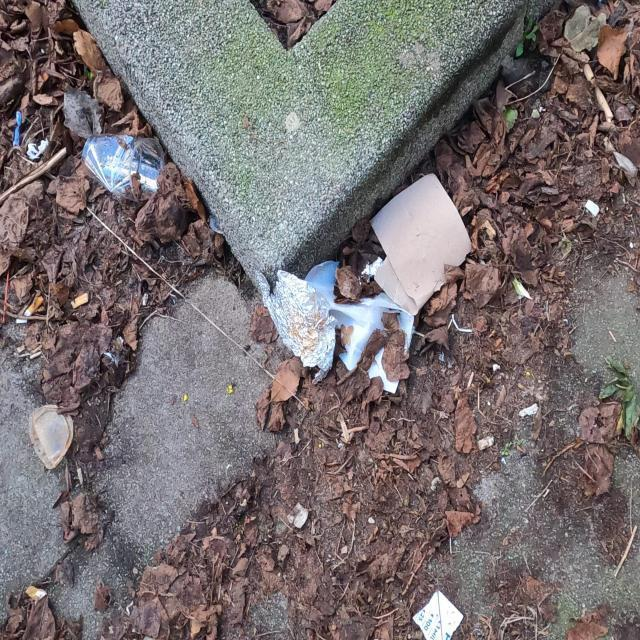Cup: (80, 130, 166, 204)
Paper: (304, 258, 416, 395), (368, 171, 472, 317), (411, 588, 464, 640), (26, 136, 50, 162)
Plastic: (358, 255, 383, 288)
